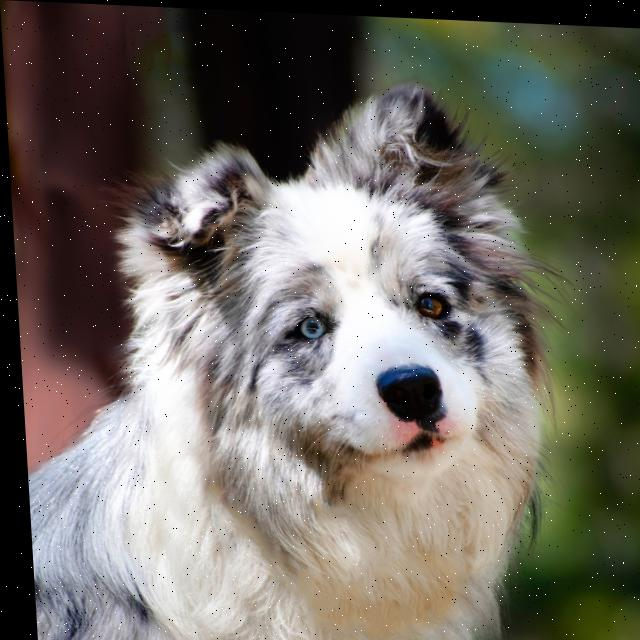ALASKAN_MALAMUTE: (2, 51, 573, 640)
